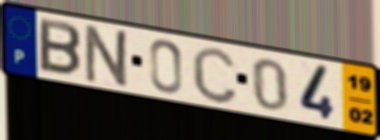0: (249, 56, 292, 113), (147, 37, 184, 95)
4: (297, 62, 341, 124)
B: (37, 16, 83, 79)
C: (190, 44, 240, 106)
N: (83, 23, 133, 91)
